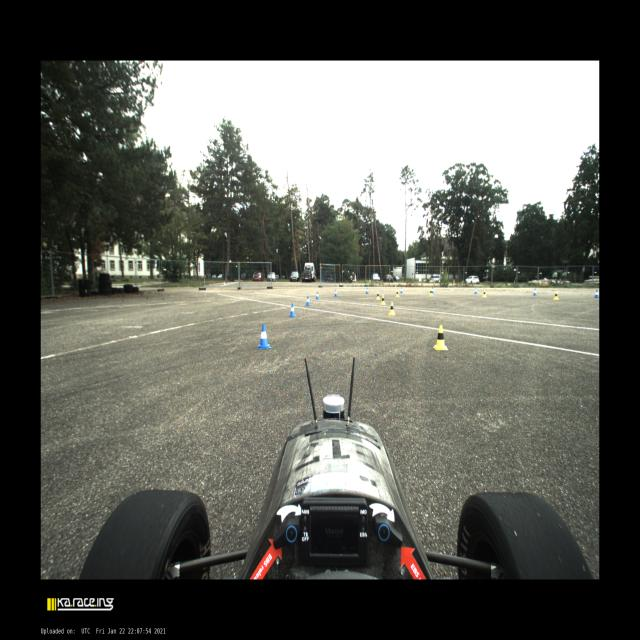blue_cone: (257, 324, 272, 349), (289, 303, 296, 317), (306, 296, 310, 306), (594, 290, 599, 298), (316, 292, 320, 300), (533, 288, 537, 296), (474, 287, 478, 294), (400, 287, 403, 294), (431, 286, 434, 293), (334, 290, 337, 296), (366, 288, 368, 294)
yellow_cone: (434, 324, 448, 351), (388, 302, 396, 316), (380, 294, 386, 305), (553, 291, 559, 300), (482, 290, 486, 298), (429, 288, 433, 296), (376, 292, 380, 300), (396, 290, 400, 297)
